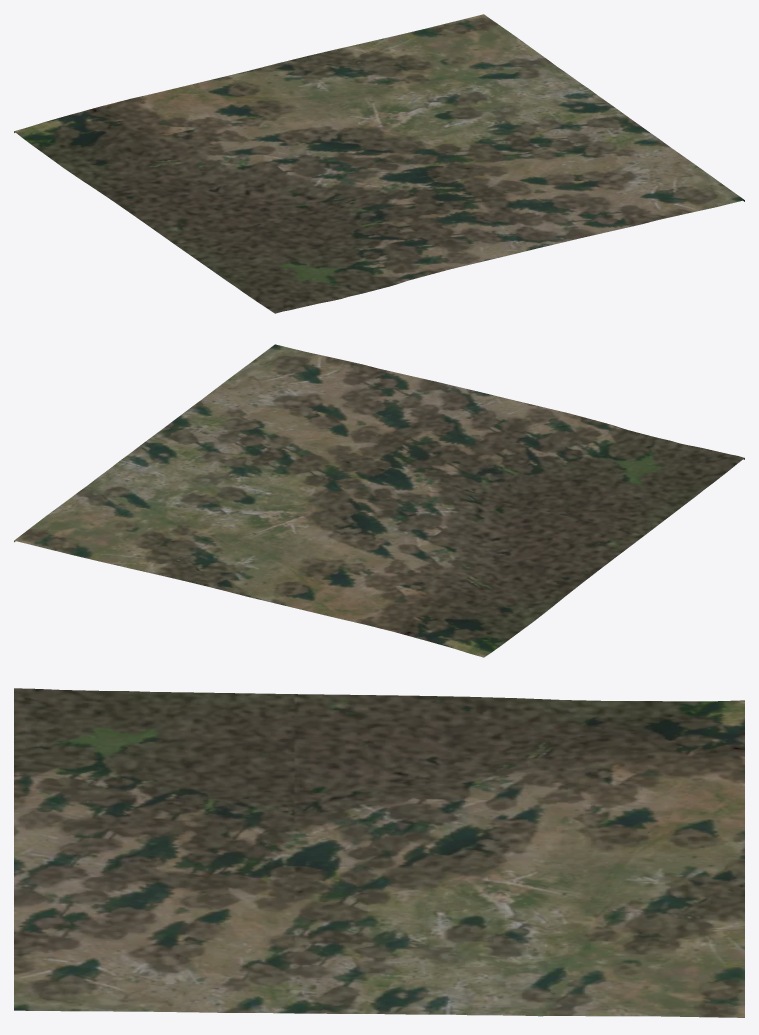
3 views of the same model, one above another, from view 1: azimuth 30°, elevation 25°; view 2: azimuth 150°, elevation 25°; view 3: azimuth 270°, elevation 25° (orthographic). The views are drawn at different scales.
Bounding box in the file's own units: 250 × 6.61 × 241.
Materials: 1 (1 with a texture image).
